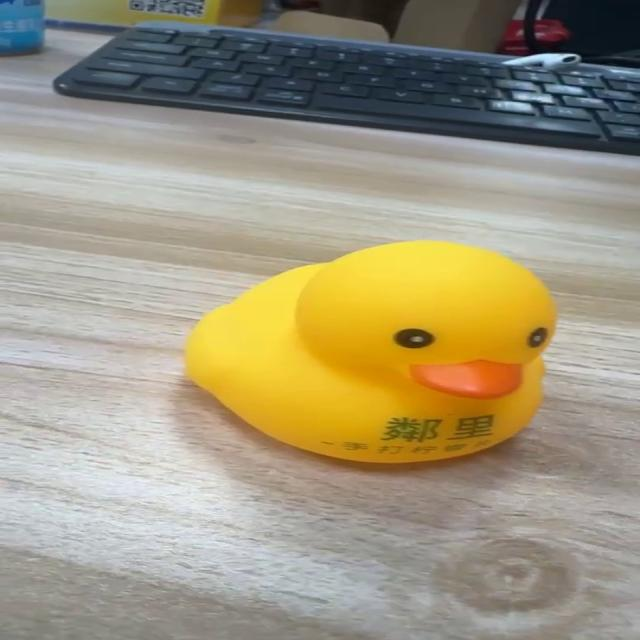yellow_duck: (182, 237, 558, 464)
